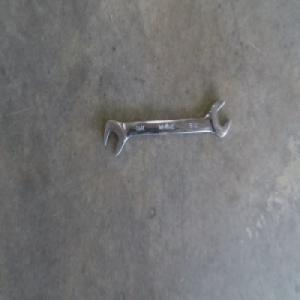Wrench: (105, 97, 233, 153)
